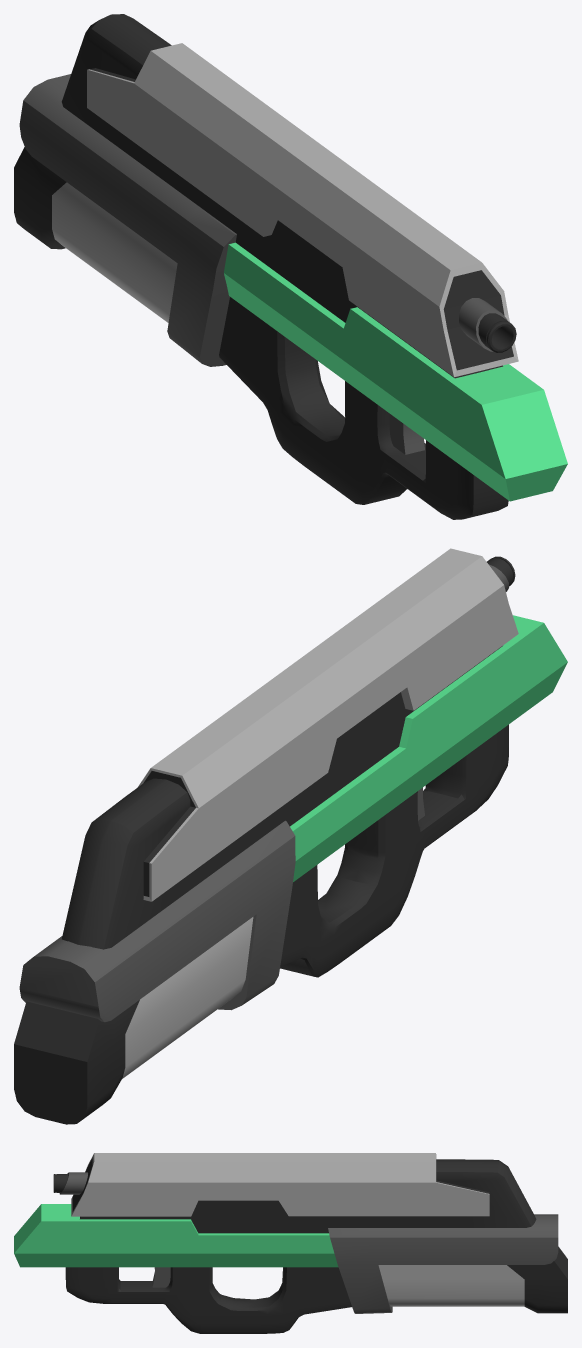
File: plasma.glb
The picture shows the model from 3 angles, top to bottom: view 1: azimuth 30°, elevation 25°; view 2: azimuth 150°, elevation 25°; view 3: azimuth 270°, elevation 25°; orthographic projection. The views are drawn at different scales.
Visible parts, largest first — view 1: Cube.188; view 2: Cube.188; view 3: Cube.188.
Boxes of the visible parts, x1=… form: Cube.188: x1=14, y1=14, x2=567, y2=519; Cube.188: x1=14, y1=548, x2=567, y2=1124; Cube.188: x1=14, y1=1153, x2=567, y2=1333.
Bounding box in the file's own units: 0.0799 × 0.2906 × 0.85.
